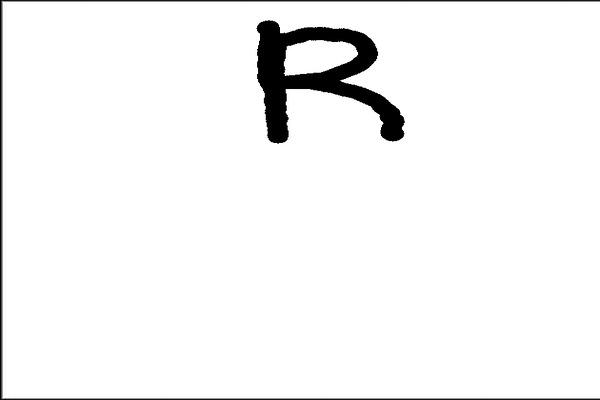R: (245, 16, 414, 155)
